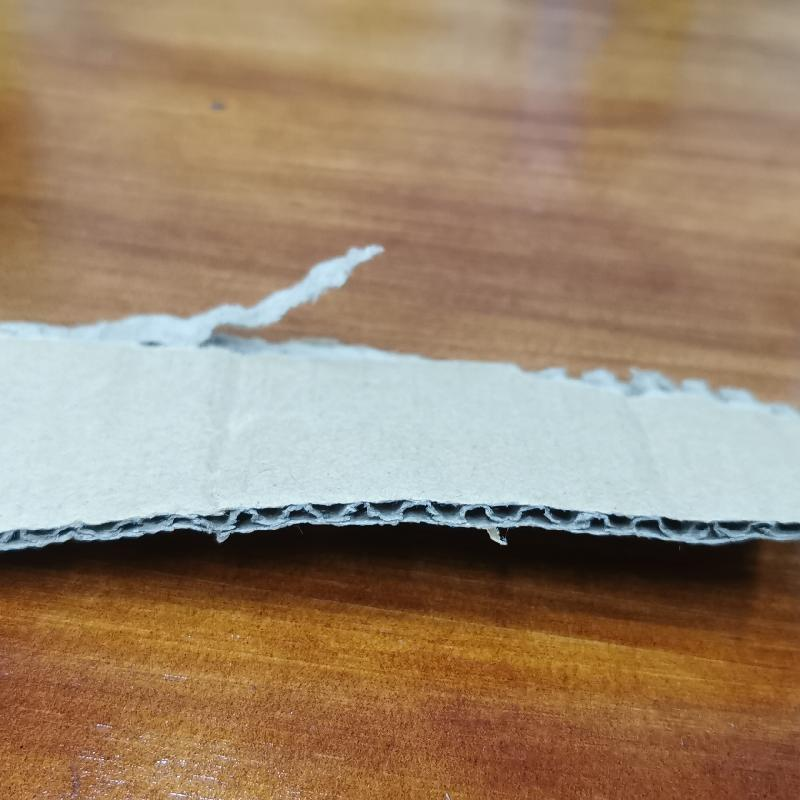boxes: (4, 242, 799, 562)
